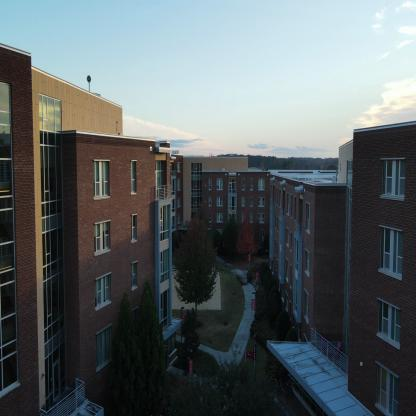Wolf Ridge: (0, 26, 415, 391)
